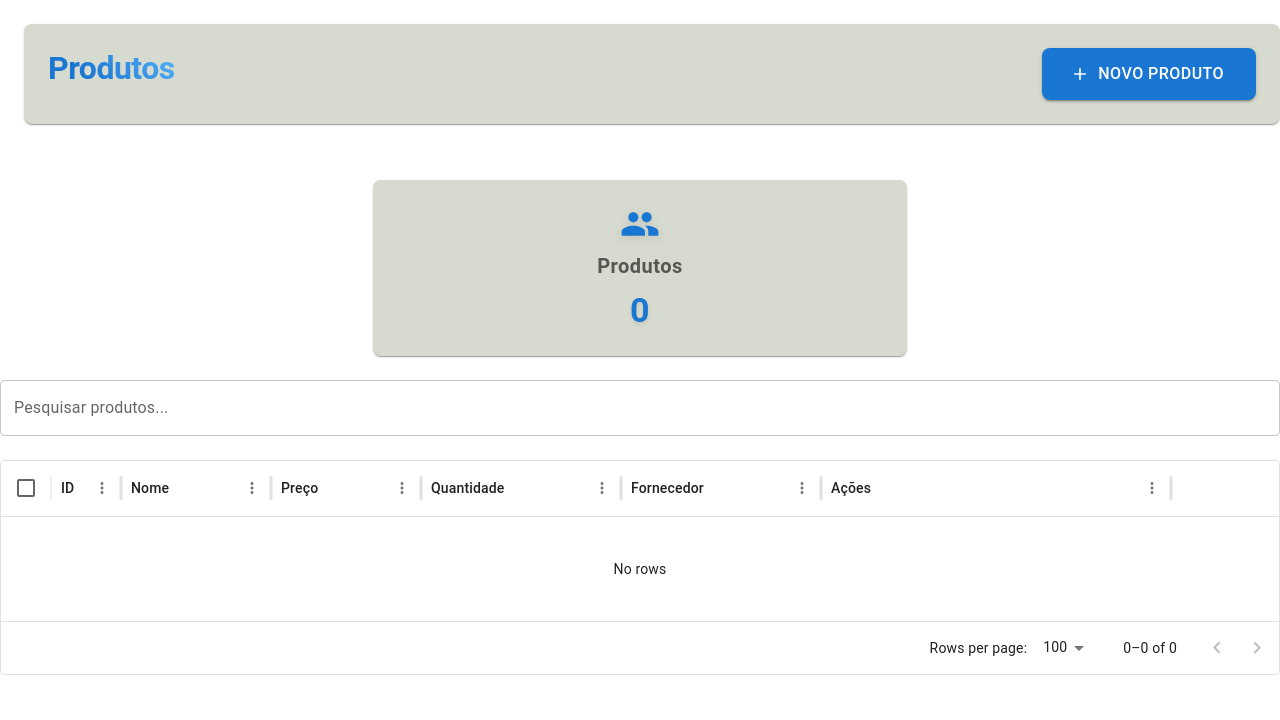
Test: Componente Produto › Abre formulário para novo
Click the button "Novo Produto" at (1149,74), box [1042,48,1256,100]
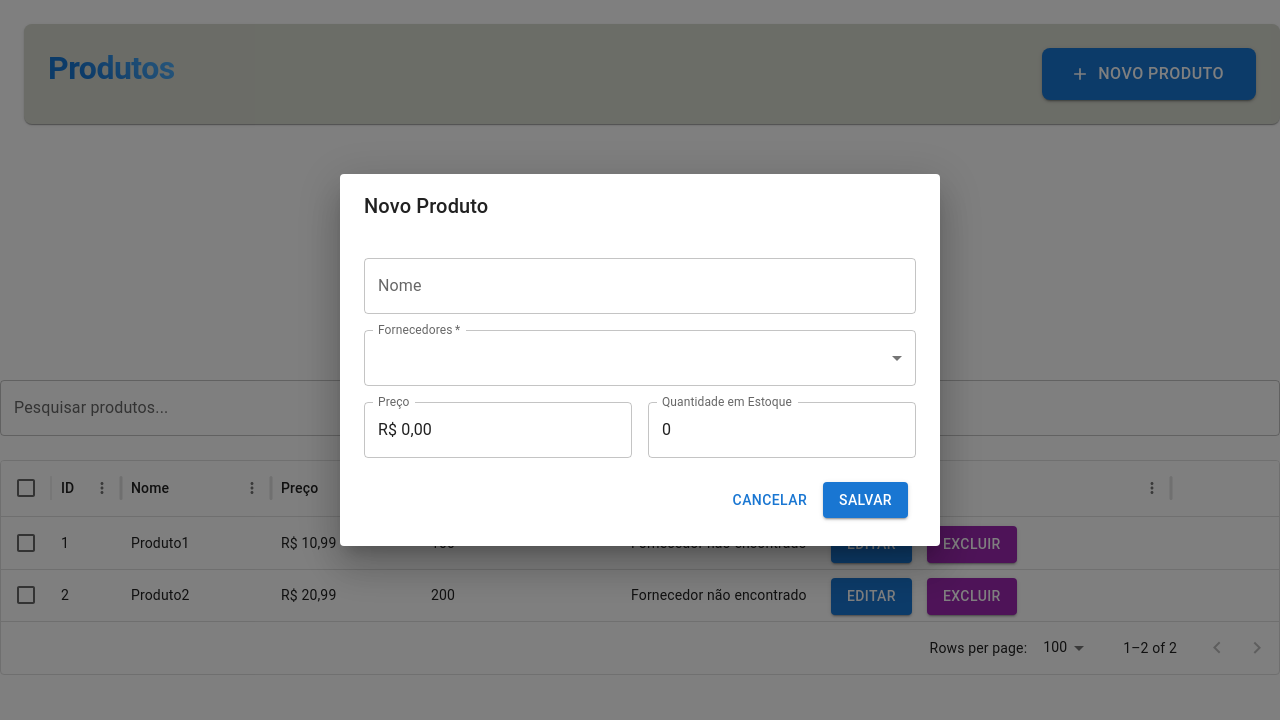
Expected: the dialog is shown, [340,174,940,546]
